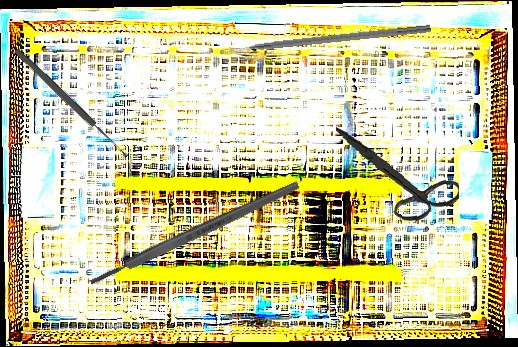Hook Surgical: (221, 22, 431, 54)
Iris Scissors: (329, 124, 464, 226)
Scalpel Handle: (87, 179, 302, 288)
Surgical Spoon: (13, 47, 130, 160)
